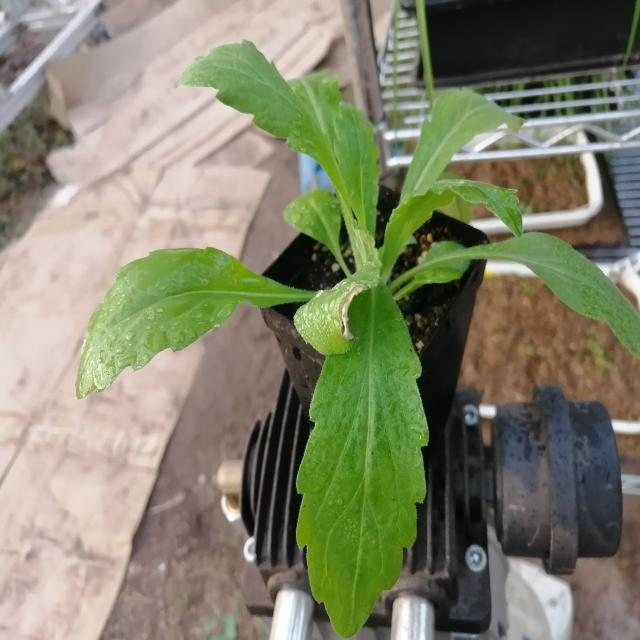horseweed: (110, 52, 563, 558)
